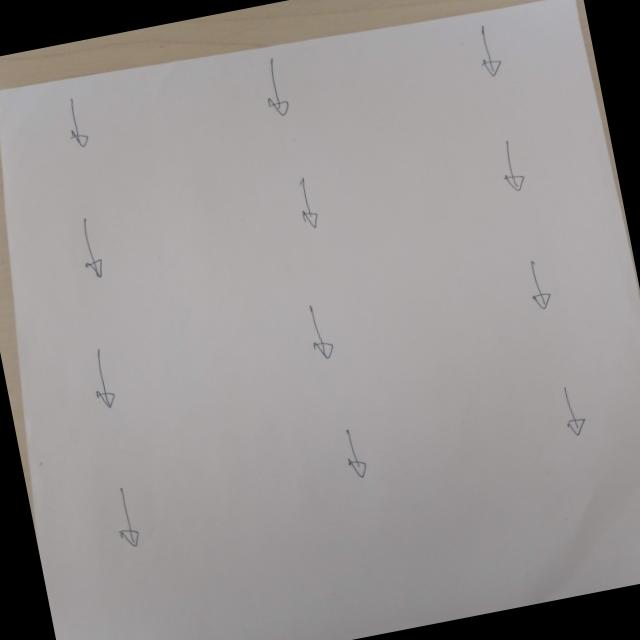arrow_line_down: (102, 482, 156, 558), (257, 50, 305, 124), (296, 296, 346, 366), (70, 212, 114, 284), (492, 130, 536, 198), (82, 347, 124, 418), (519, 253, 564, 317), (336, 418, 380, 483), (289, 170, 332, 236), (553, 380, 595, 440), (57, 95, 97, 157), (470, 21, 507, 82)
